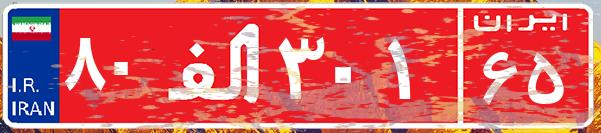0: (330, 28, 385, 110), (110, 28, 158, 105)
1: (385, 28, 445, 110)
3: (273, 28, 330, 110)
5: (525, 38, 570, 115)
6: (475, 38, 525, 113)
8: (57, 26, 110, 107)
الف: (158, 15, 273, 115)
